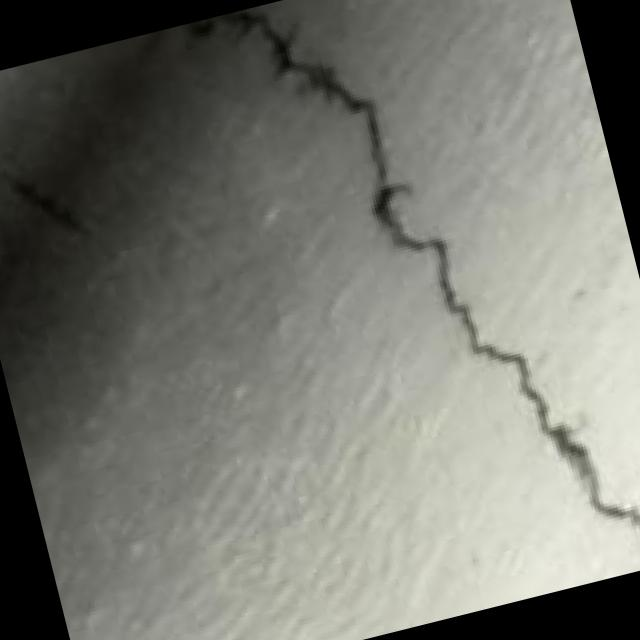crack: (202, 0, 640, 638)
